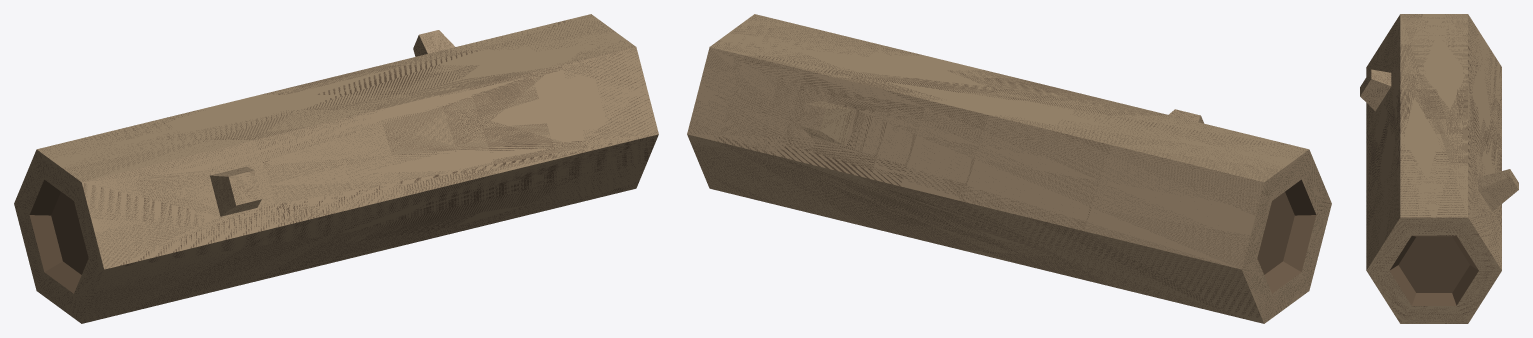
The model's file is K_Log.glb.
3 views of the same model, side by side, from view 1: azimuth 30°, elevation 25°; view 2: azimuth 150°, elevation 25°; view 3: azimuth 270°, elevation 25° (orthographic). The views are drawn at different scales.
Parts seen in each view (by area): view 1: K_Log; view 2: K_Log; view 3: K_Log.
Part boxes in pixels (left/top/right/bottom): K_Log: left=14, top=14, right=658, bottom=323; K_Log: left=687, top=14, right=1331, bottom=323; K_Log: left=1360, top=14, right=1518, bottom=323.
Bounding box in the file's own units: 2.41 × 0.5889 × 0.7955.
